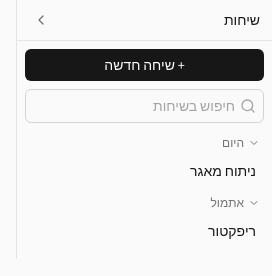
Test: ThreadSidebar (P9-T12) › collapsing a date group hides its threads without affecting other groups
The image size is (272, 276).
Click the button "היום".
click(144, 143)  # box [25, 131, 264, 155]
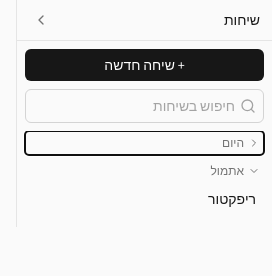
Expected: the text "ריפקטור" is shown, [208, 190, 256, 208]
Result: the button "ניתוח מאגר" is gone
